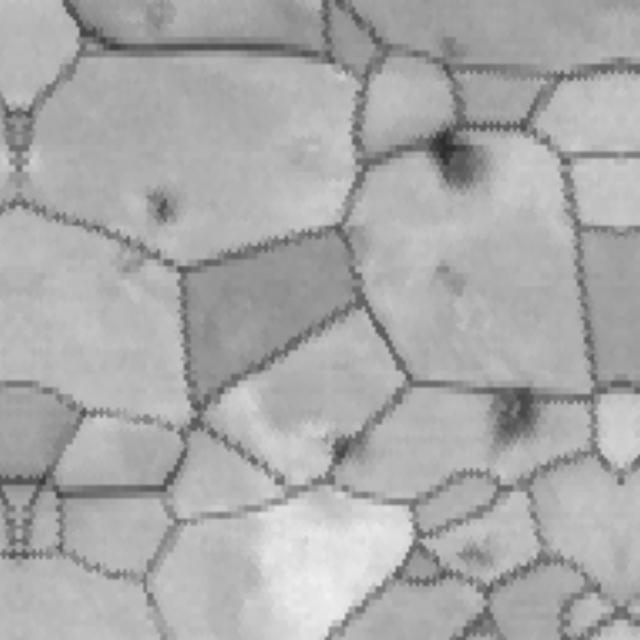good_void: (406, 107, 502, 206), (464, 373, 544, 464), (412, 242, 488, 316), (131, 179, 205, 252), (319, 417, 374, 476), (452, 530, 509, 576), (108, 238, 156, 289), (426, 32, 475, 71), (139, 0, 179, 35)
